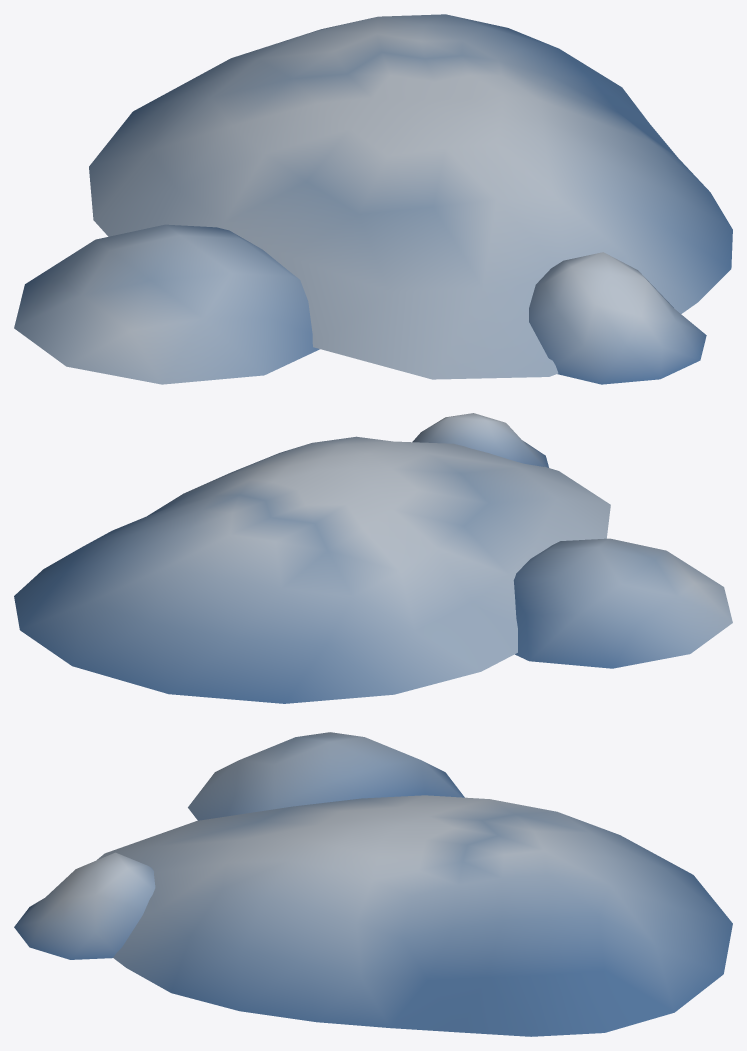
File: Snowdrift_01.fbx
3 views of the same model, one above another, from view 1: azimuth 30°, elevation 25°; view 2: azimuth 150°, elevation 25°; view 3: azimuth 270°, elevation 25° (orthographic). The views are drawn at different scales.
Visible parts, largest first — view 1: Snowdrift_01; view 2: Snowdrift_01; view 3: Snowdrift_01.
Boxes of the visible parts, left/top/right/bottom form: Snowdrift_01: left=14, top=14, right=732, bottom=384; Snowdrift_01: left=14, top=413, right=732, bottom=703; Snowdrift_01: left=14, top=732, right=732, bottom=1036.
Size of the model in its own units: 4564 by 725 by 4819.
